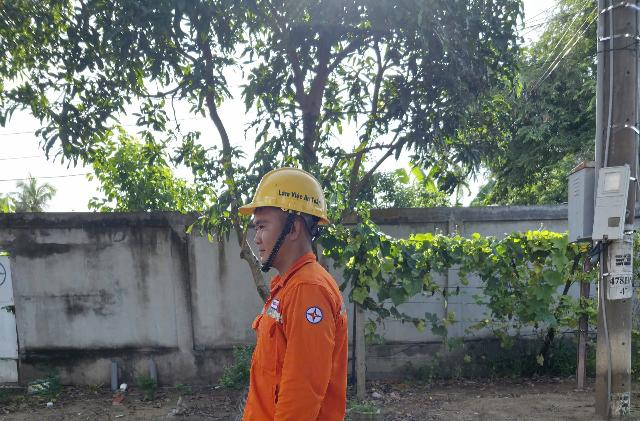helmet: (235, 161, 342, 225)
